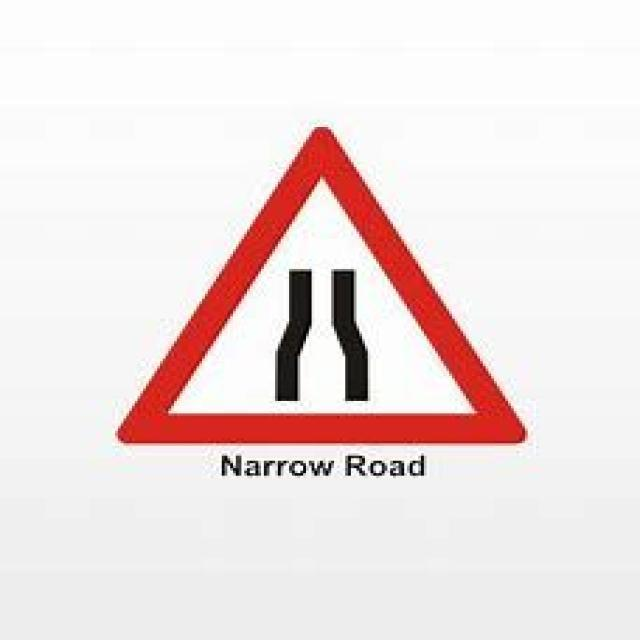narrow road ahead: (116, 125, 550, 453)
